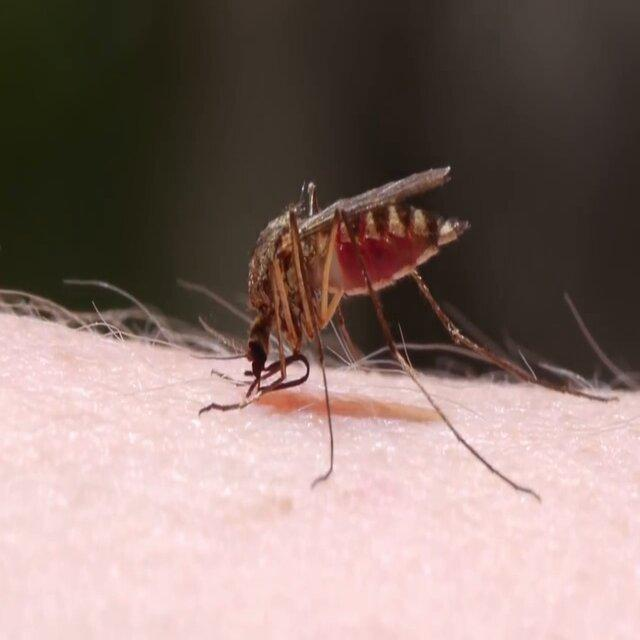mosquitos: (248, 168, 468, 392)
